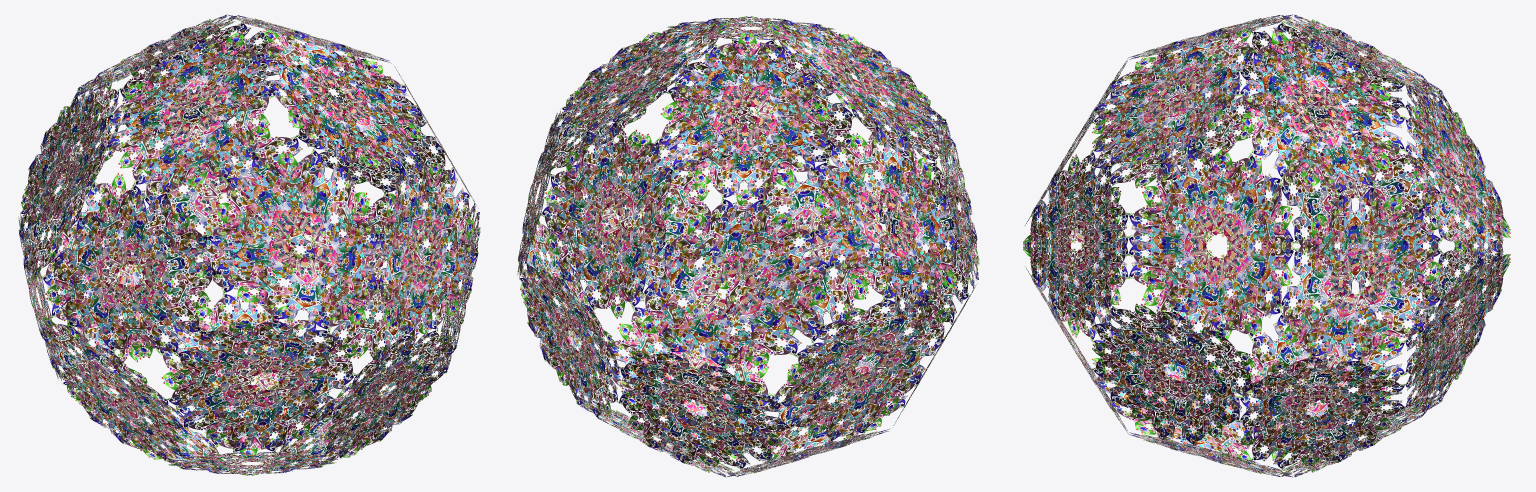
File: PentagonalIcositetrahedron12.obj
The picture shows the model from 3 angles, left to right: view 1: azimuth 30°, elevation 25°; view 2: azimuth 150°, elevation 25°; view 3: azimuth 270°, elevation 25°; orthographic projection.
Bounding box in the file's own units: 2.72 × 2.72 × 2.72.
1 material, 1 textured.
